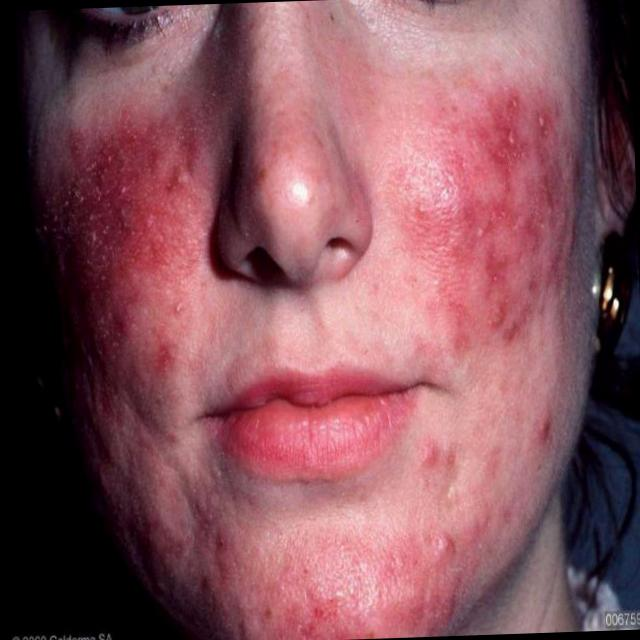skinredness: (70, 52, 575, 600)
